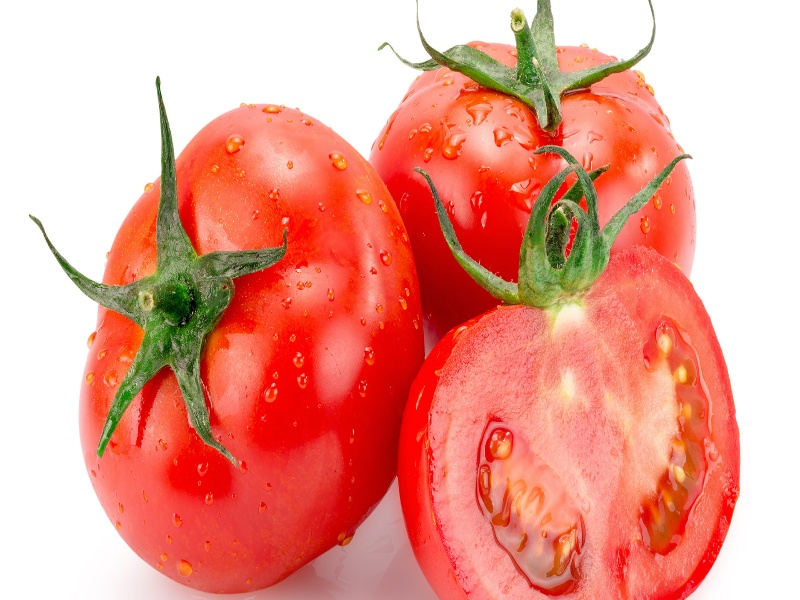Tomate: (29, 76, 425, 594), (396, 149, 740, 600), (372, 1, 695, 330)
